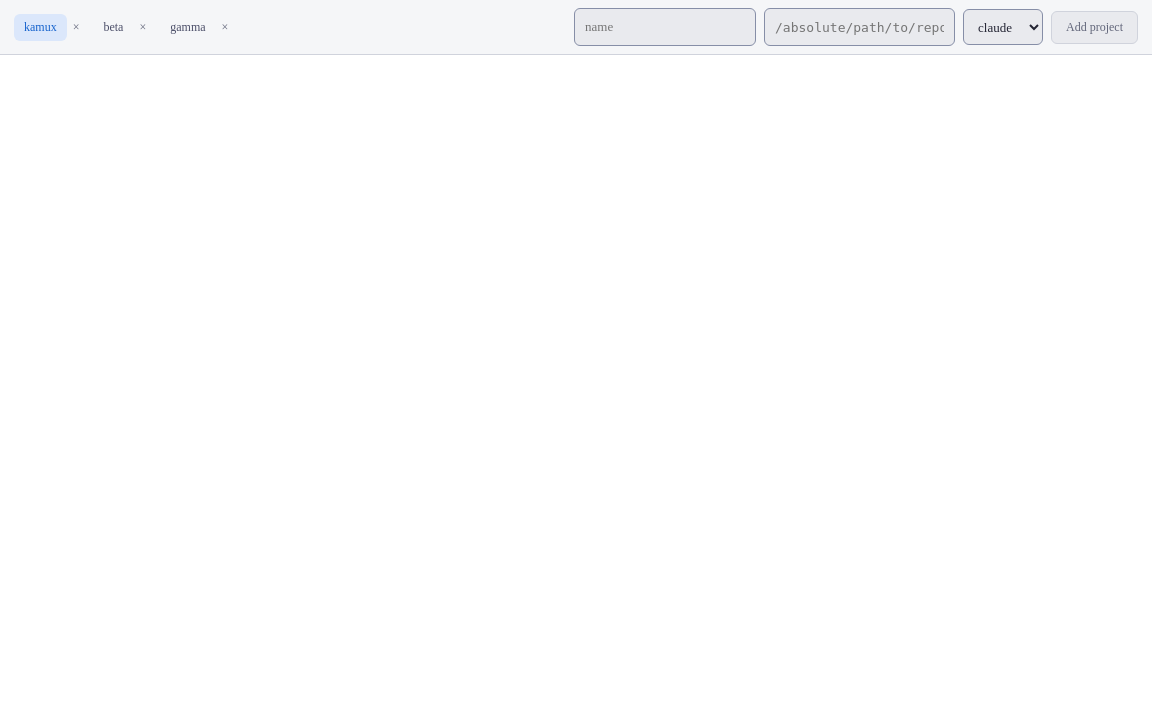
Test case: ProjectBar の削除導線 › キャンセルするとダイアログが閉じ、何も消えない
The width and height of the screenshot is (1152, 720).
Click the 1st button "×": click(76, 27) top-left (67, 15), bottom-right (86, 39)
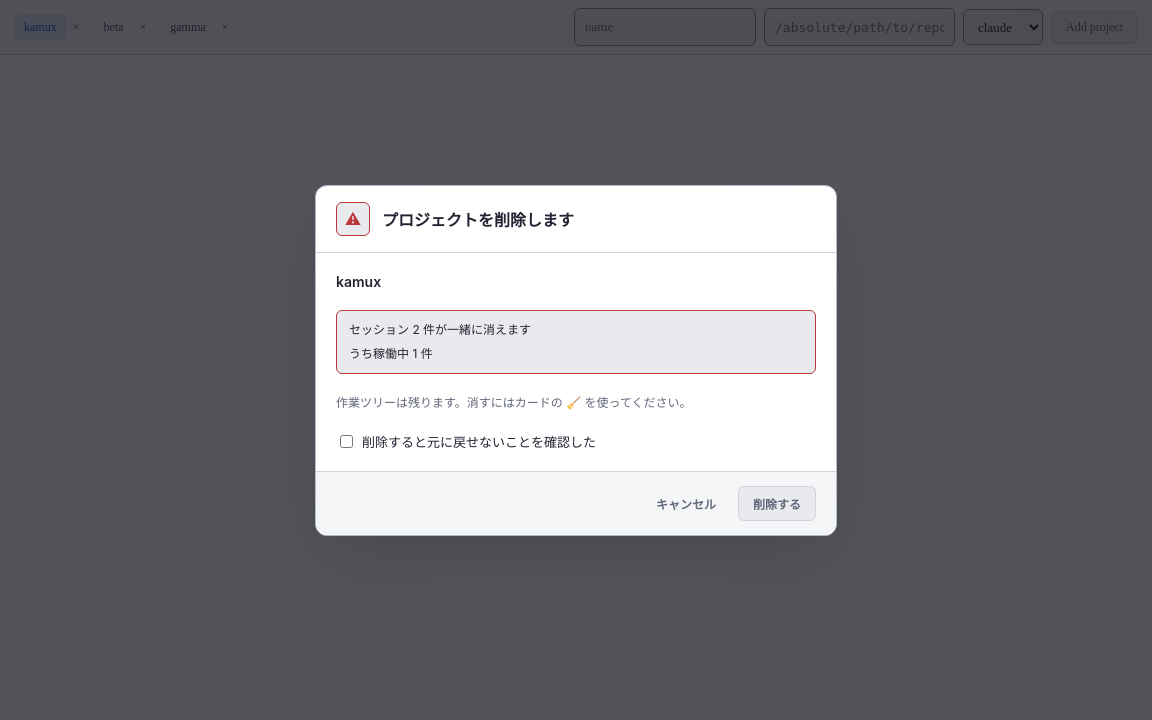
Check: the text "セッション 2 件が一緒に消えます" is shown, box top-left (349, 322), bottom-right (531, 336)
Click the button "キャンセル": click(686, 503) top-left (642, 486), bottom-right (730, 520)
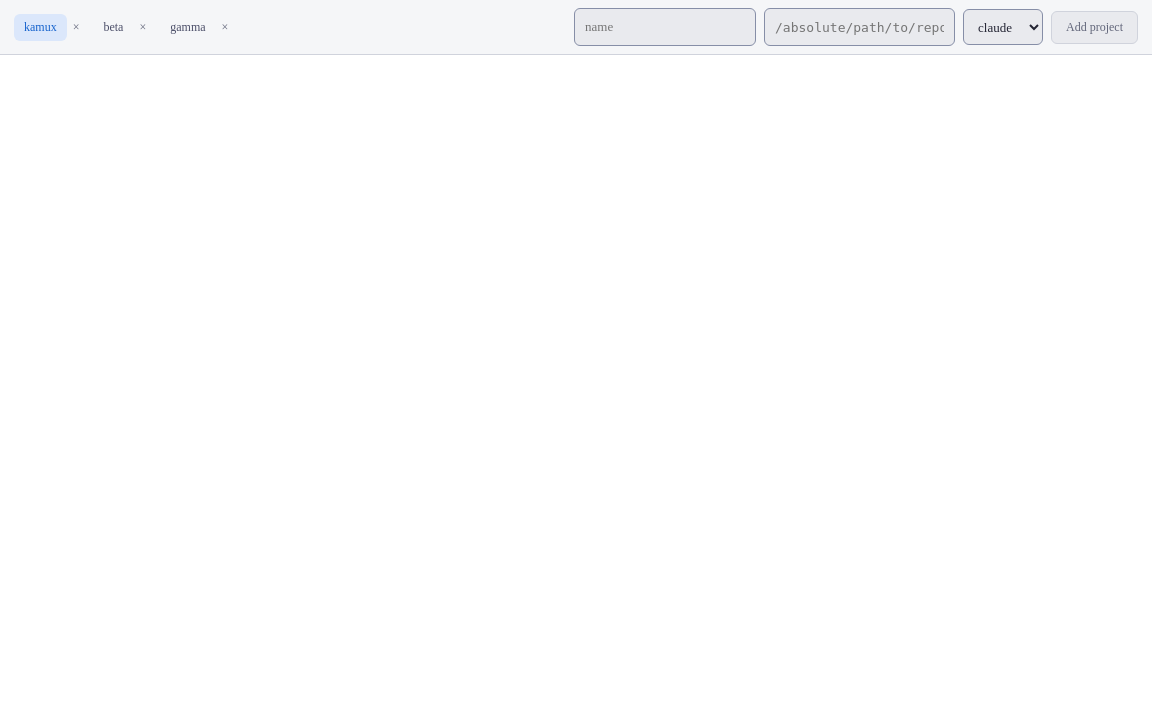
Check: the heading "プロジェクトを削除" is gone
